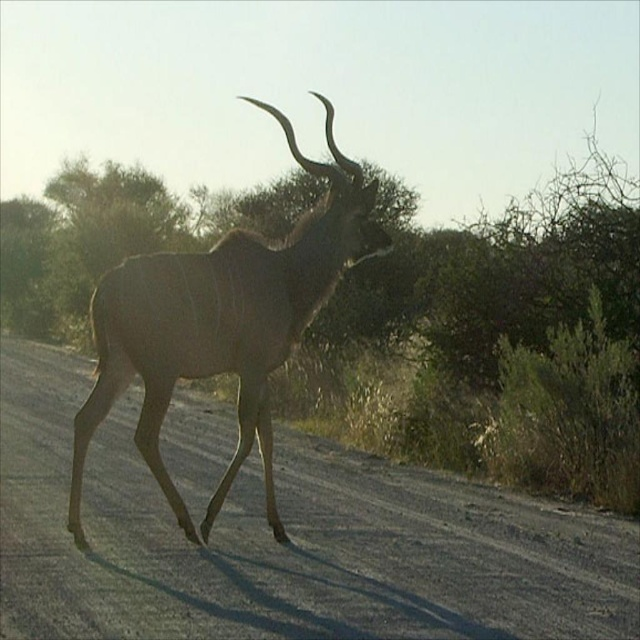Deer: (66, 88, 392, 547)
